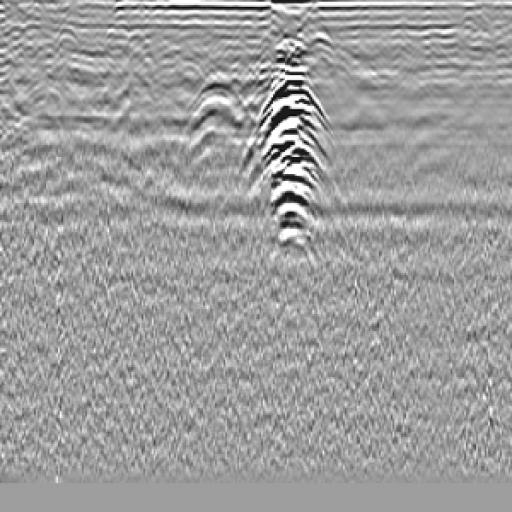metalic: (257, 56, 332, 255)
nonmetalic: (182, 76, 254, 151)
